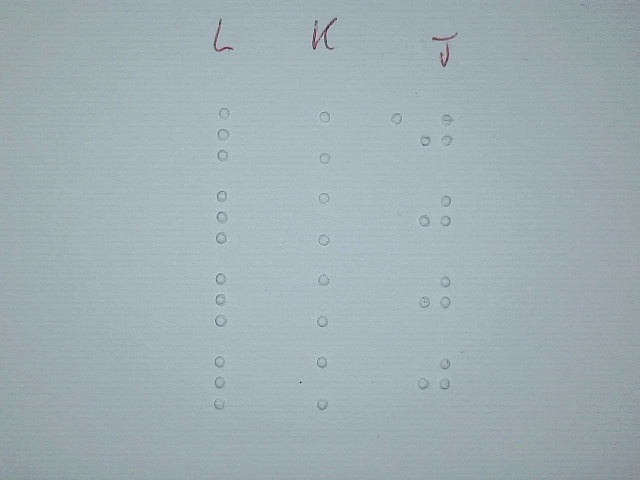J: (416, 106, 456, 163), (415, 187, 455, 244), (417, 267, 453, 324), (416, 349, 452, 406)
K: (312, 108, 352, 165), (312, 190, 352, 247), (310, 271, 350, 328), (309, 354, 349, 411)
L: (210, 106, 250, 163), (208, 188, 248, 245), (207, 271, 247, 328), (206, 354, 246, 411)
